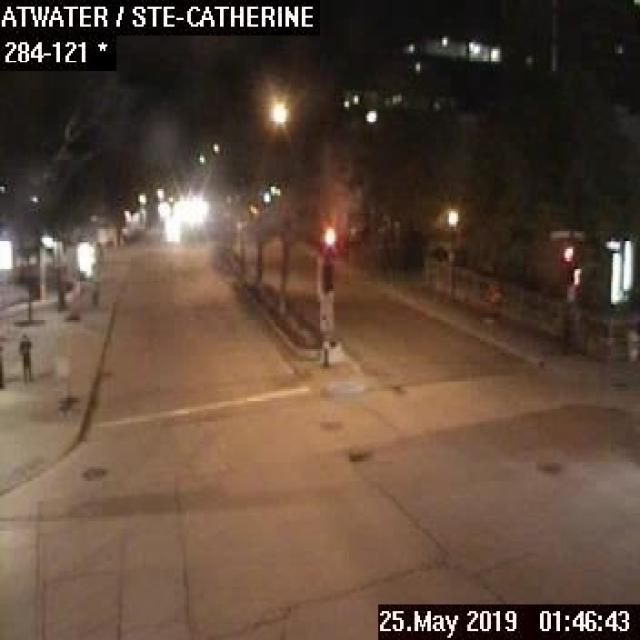pedestrian: (16, 331, 31, 382)
